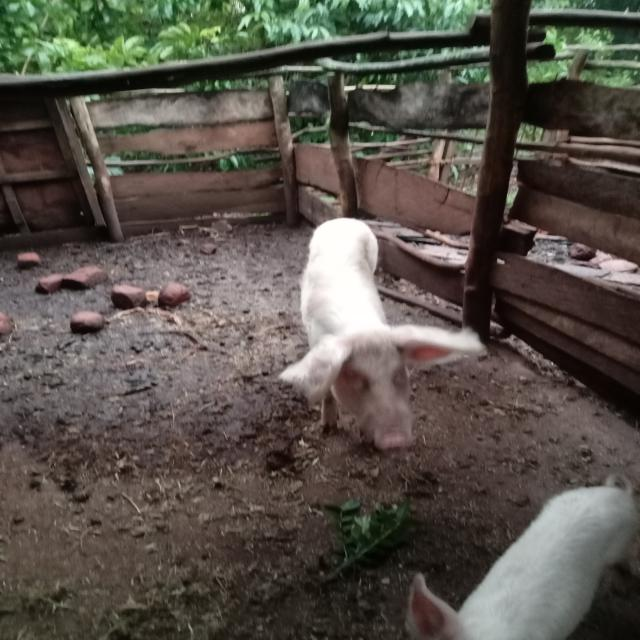pig: (210, 157, 569, 481)
